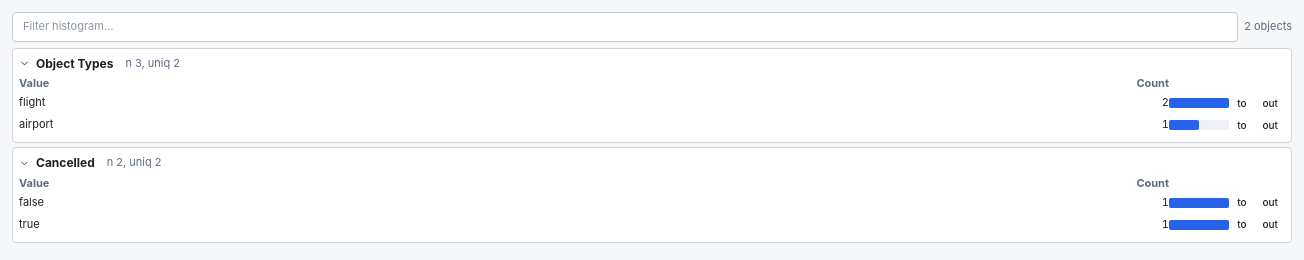
HistogramFacets › filters the visible facet list by the search input
Check: the text "Object Types" is shown, box [36,55,113,72]
Check: the text "Cancelled" is shown, box [36,154,95,172]
Type "Cancelled" into the field with placeholder "Filter histogram…" at coordinates (625, 27), box [12,12,1238,42]
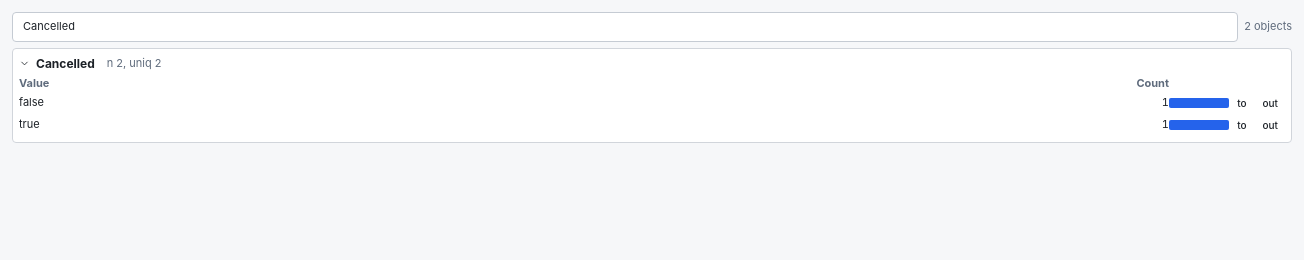
Check: the text "Cancelled" is shown, box [36,55,95,72]
Check: the text "Object Types" is gone
